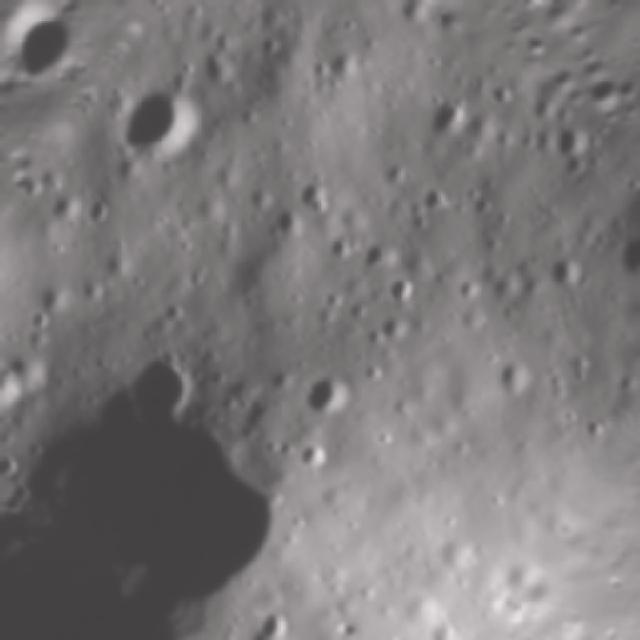crater: (108, 74, 201, 166), (300, 368, 363, 434), (374, 264, 426, 316), (0, 354, 34, 420), (247, 603, 295, 640), (292, 436, 332, 475)
